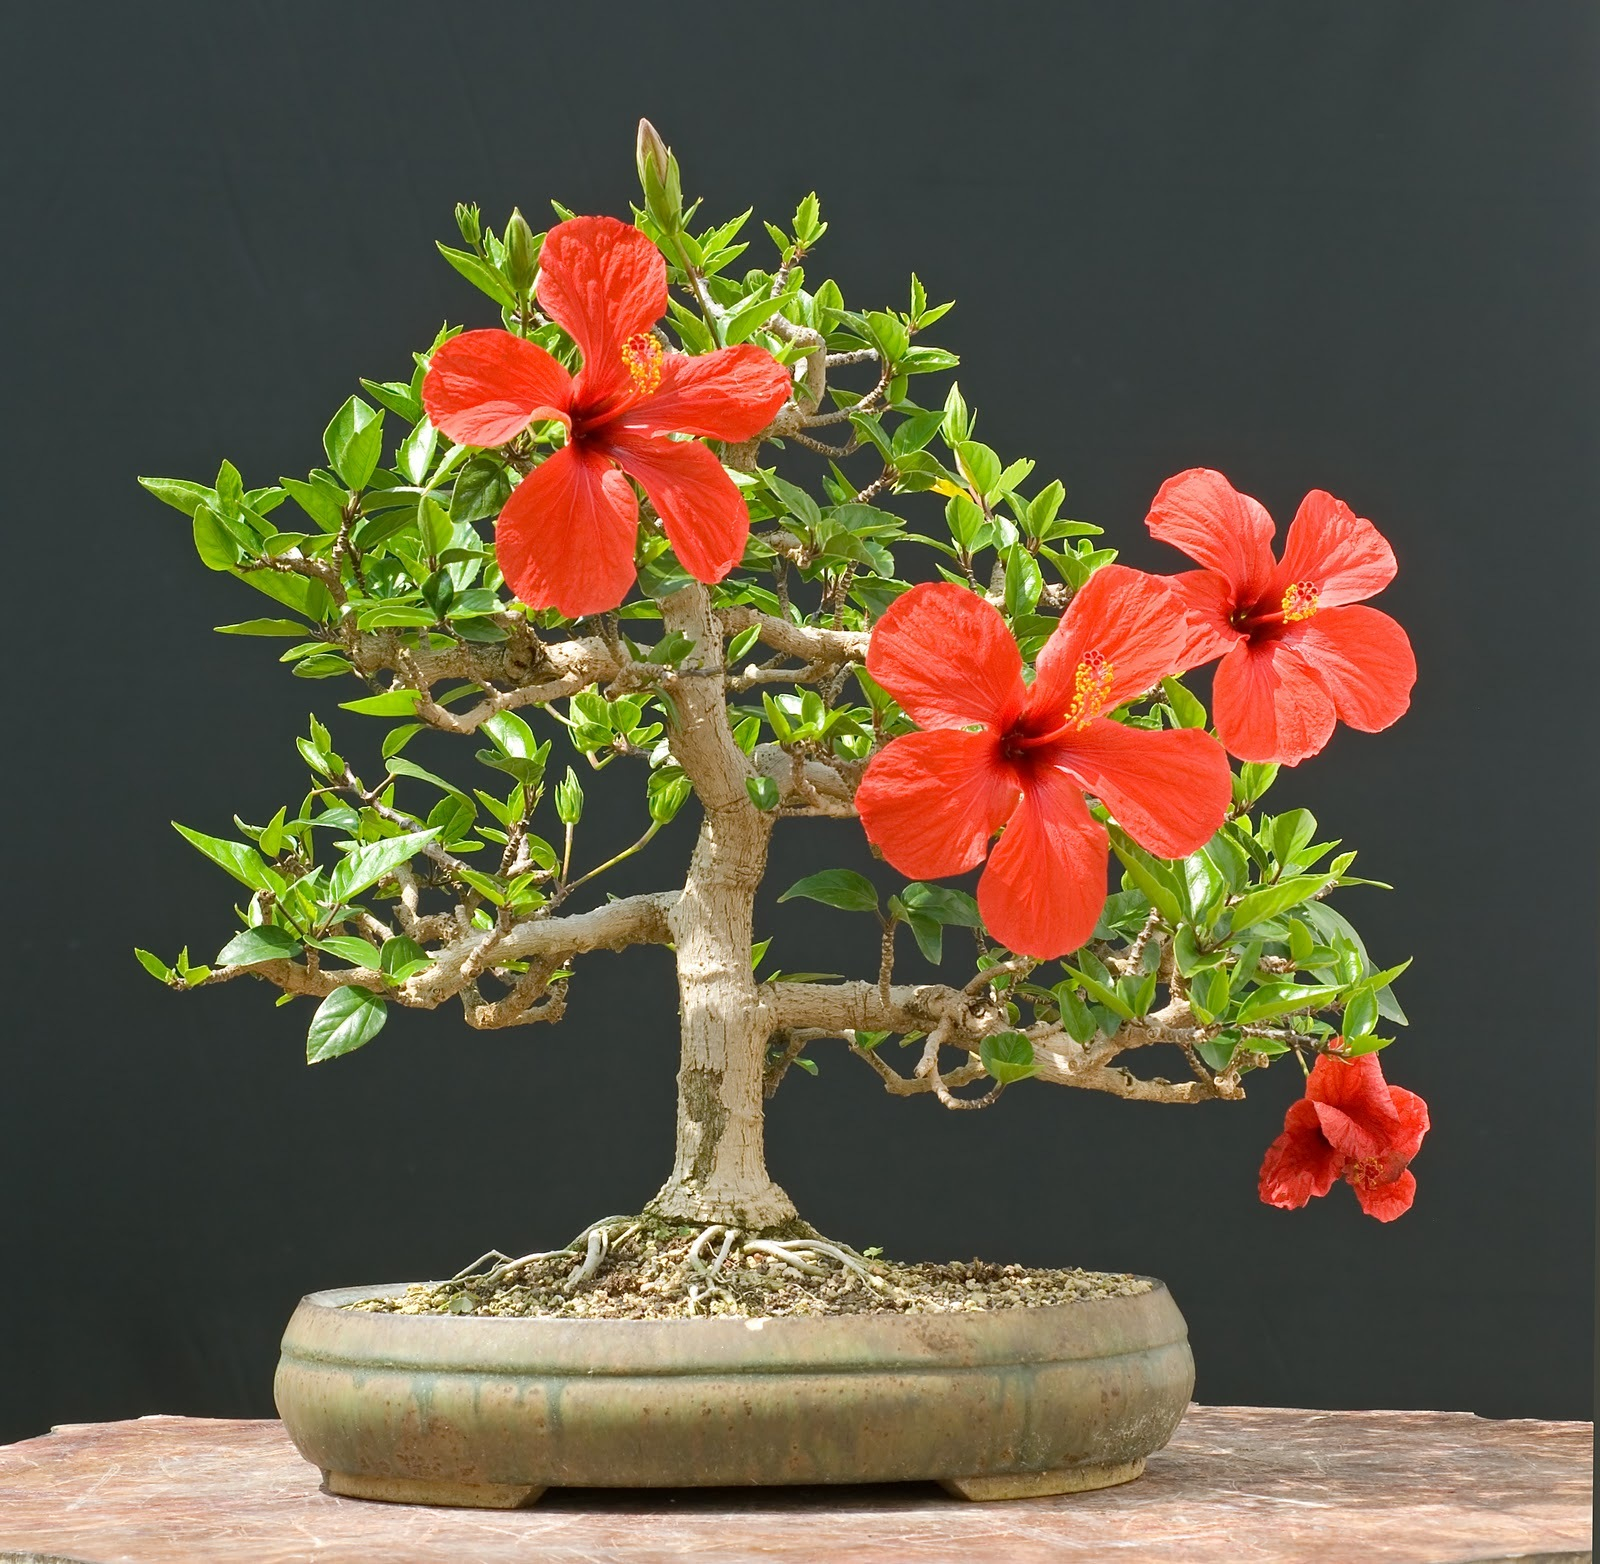Hibiscus-rosa-sinesis: (425, 216, 791, 609), (859, 571, 1236, 951), (1146, 463, 1412, 763), (1258, 1028, 1431, 1229)
